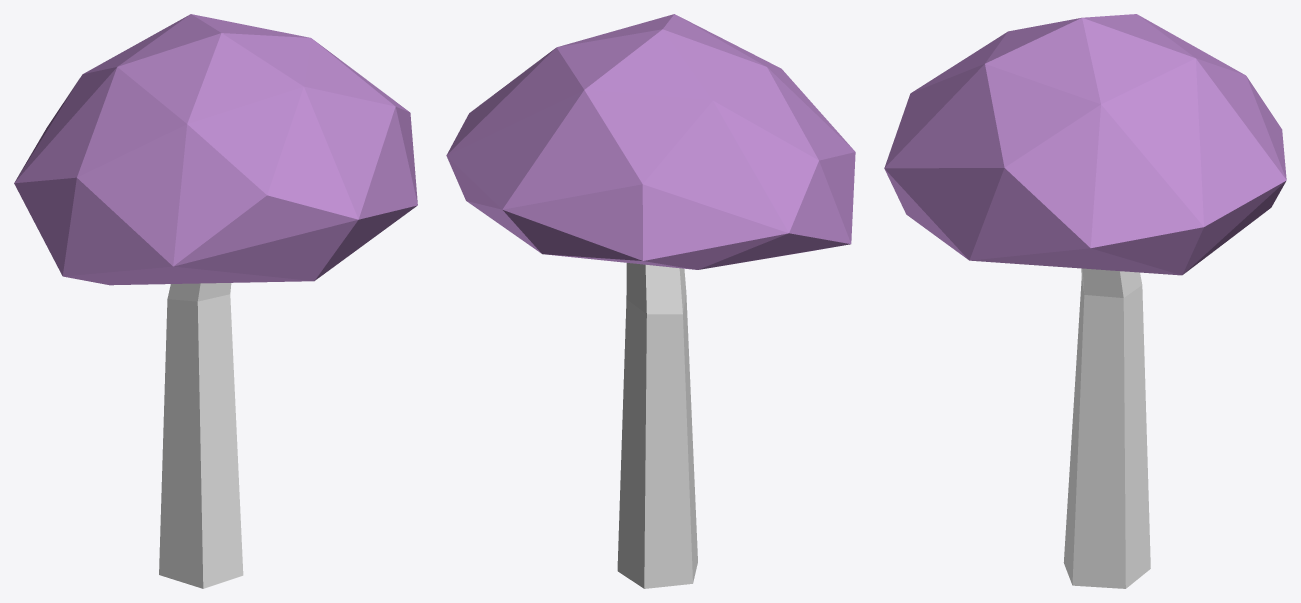
File: Mushroom_k_01.fbx
3 renders of one model, left to right at view 1: azimuth 30°, elevation 25°; view 2: azimuth 150°, elevation 25°; view 3: azimuth 270°, elevation 25°, orthographic. The views are drawn at different scales.
Parts seen in each view (by area): view 1: Mushroom_k_01; view 2: Mushroom_k_01; view 3: Mushroom_k_01.
Part boxes in pixels (x1=…): Mushroom_k_01: x1=14, y1=14, x2=417, y2=588; Mushroom_k_01: x1=446, y1=14, x2=855, y2=588; Mushroom_k_01: x1=884, y1=14, x2=1286, y2=588.
Bounding box in the file's own units: 0.318 × 0.4479 × 0.292.
